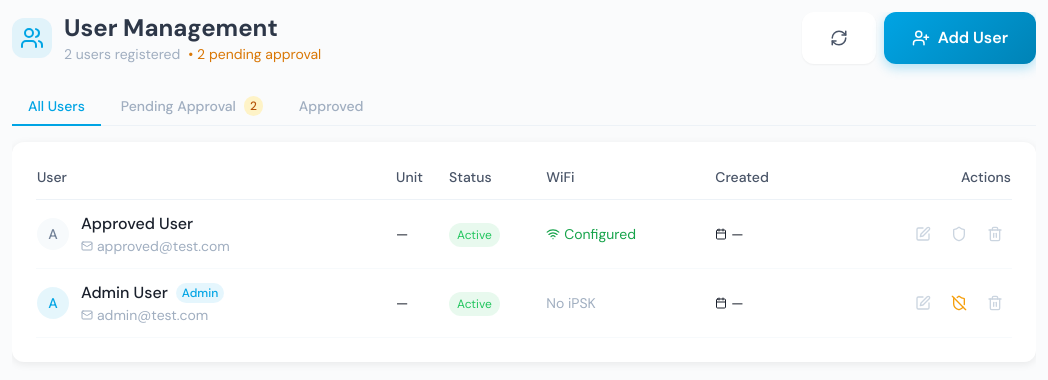
Test case: User Approval Workflow › Tab Filtering › switches between tabs correctly
Expected: the text "Approved User" is shown, [81,213,193,234]
Switch to Pending
Click the button "Pending Approval 2" at (192, 107), box [105,88,279,126]
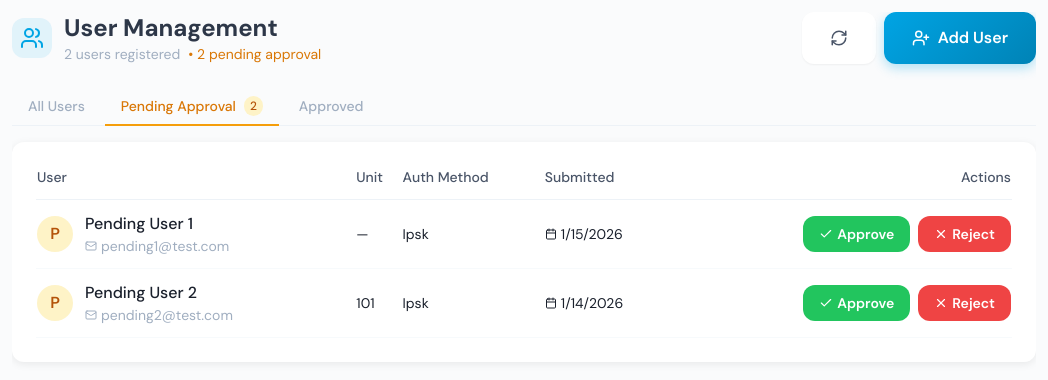
Now the text "Pending User 1" is shown, box [85,213,193,234]
Switch back to All Users
Click the button "All Users" at (56, 107), box [12,88,101,126]
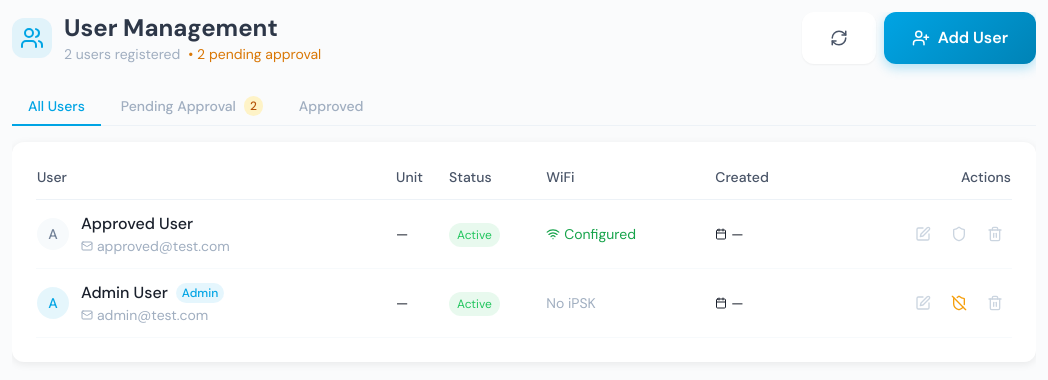
Now the text "Approved User" is shown, box [81,213,193,234]
Now the text "Pending User 1" is gone
